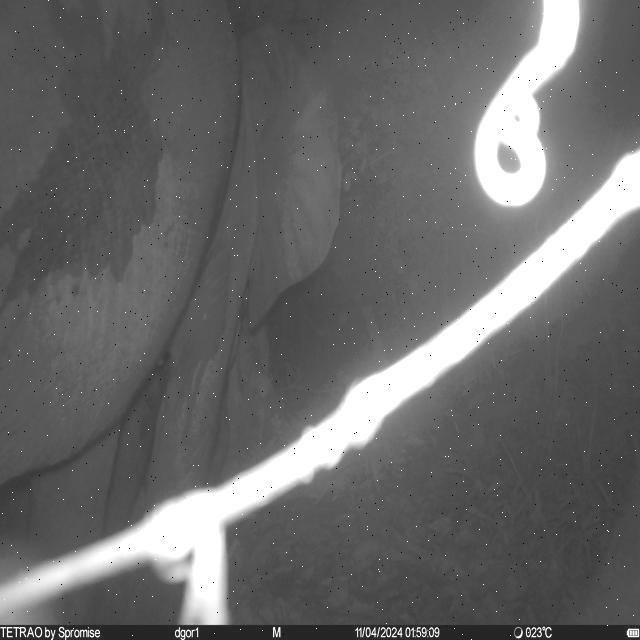ear: (239, 26, 344, 332)
elephant: (0, 2, 344, 624)
